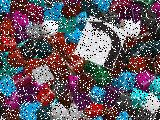Left: (74, 16, 128, 70)
